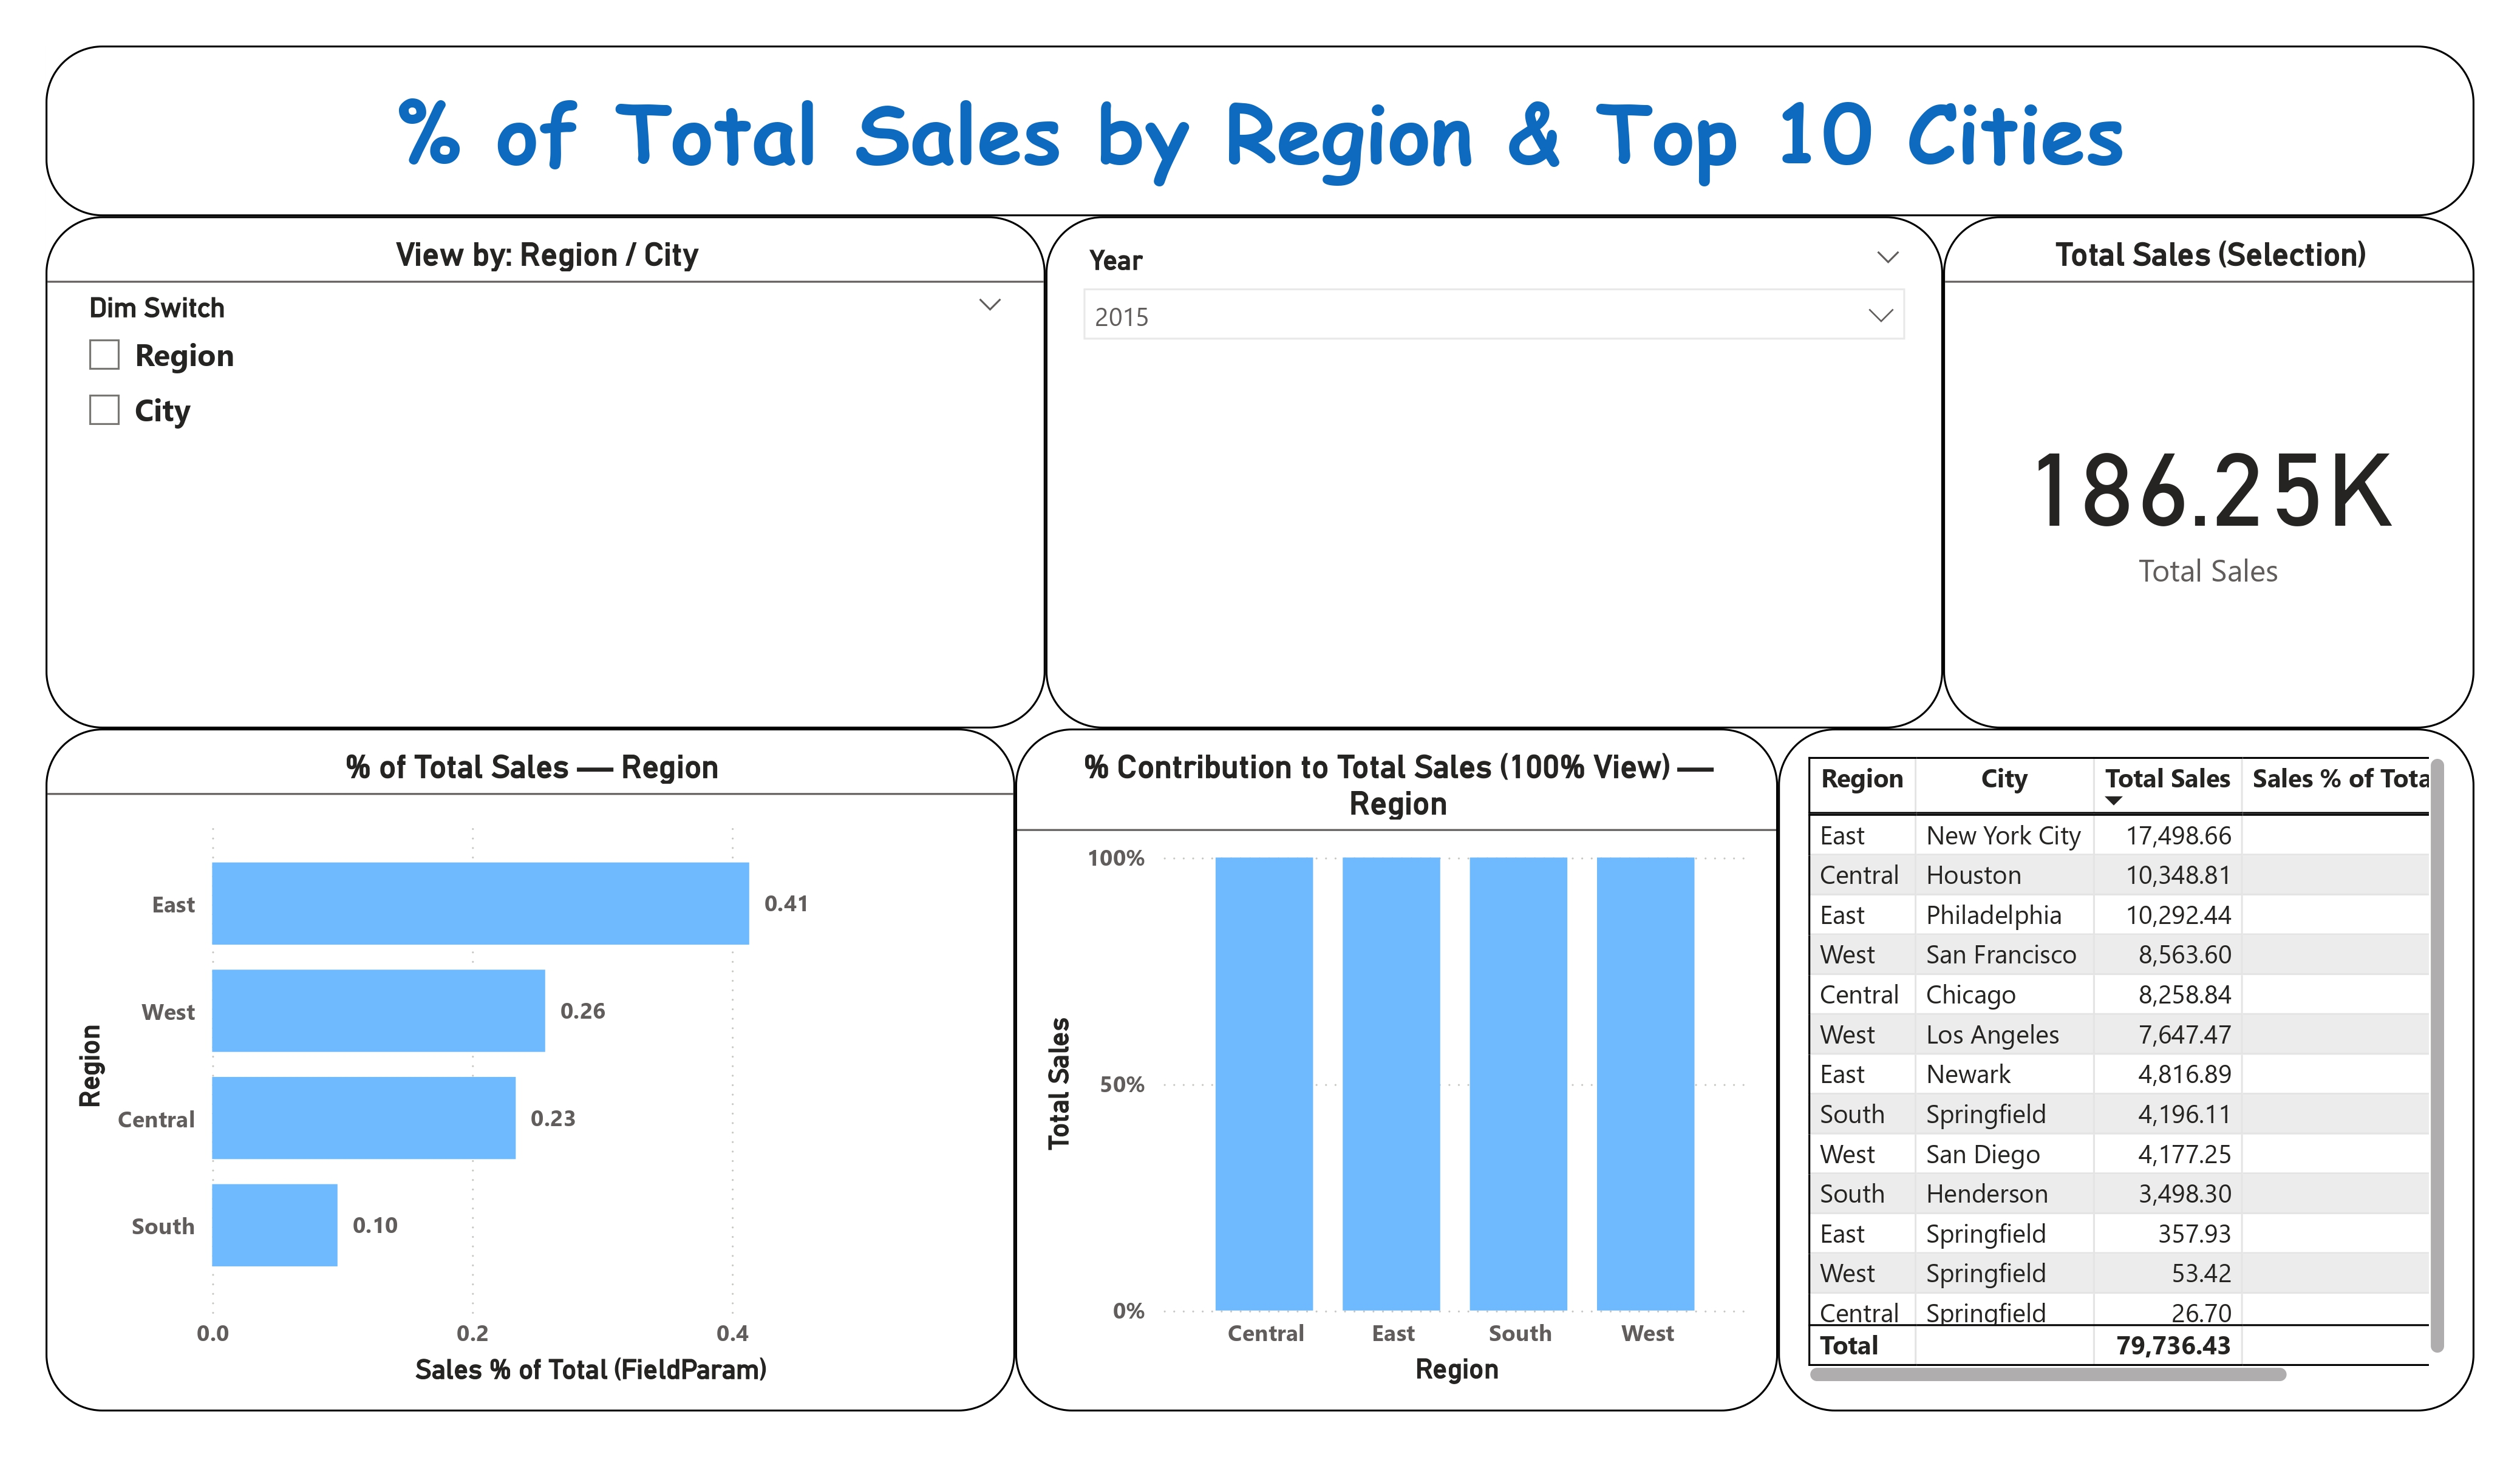

What the dashboard file says about the page in this screenshot:
{"tool":"powerbi","page":{"name":"% of Total Sales by Region & Top 10 Cities","canvas":[1280,720],"ordinal":9},"visuals":[{"type":"slicer","title":"View by: Region / City","fields":{"Values":["Dim Switch.Dim Switch"]},"box":[0,90,527.1,270],"z":0},{"type":"slicer","fields":{"Values":["Date.Year"]},"box":[527.1,90,472.9,270],"z":1000},{"type":"clusteredBarChart","fields":{"Category":["Append1.Region","Append1.City"],"Y":["Append1.Sales % of Total (FieldParam)"]},"box":[0,360,511.4,360],"z":2000},{"type":"hundredPercentStackedColumnChart","fields":{"Category":["Append1.Region","Append1.City"],"Y":["Append1.Total Sales"]},"box":[511.4,360,401.4,360],"z":3000},{"type":"tableEx","fields":{"Values":["Append1.Region","Append1.City","Append1.Total Sales","Append1.Sales % of Total (FieldParam)"]},"box":[912.9,360,367.1,360],"z":4000},{"type":"card","title":"Total Sales (Selection)","fields":{"Values":["Append1.Total Sales"]},"box":[1000,90,280,270],"z":5000},{"type":"textbox","box":[0,0,1280,90],"z":6000}]}

Visuals, with their boxes on the page's 1280x720 design canvas (x1, y1, x2, y2). These are canvas units, not pixel positions in the 2520x1457 screenshot, which may show the page scaled, cropped or inside an application window:
"View by: Region / City" slicer: pyautogui.locateOnScreen(0, 90, 527, 360)
slicer - Date.Year: pyautogui.locateOnScreen(527, 90, 1000, 360)
clusteredBarChart - Append1.Region x Append1.City: pyautogui.locateOnScreen(0, 360, 511, 720)
hundredPercentStackedColumnChart - Append1.Region x Append1.City: pyautogui.locateOnScreen(511, 360, 913, 720)
tableEx - Append1.Region x Append1.City: pyautogui.locateOnScreen(913, 360, 1280, 720)
"Total Sales (Selection)" card: pyautogui.locateOnScreen(1000, 90, 1280, 360)
textbox: pyautogui.locateOnScreen(0, 0, 1280, 90)
